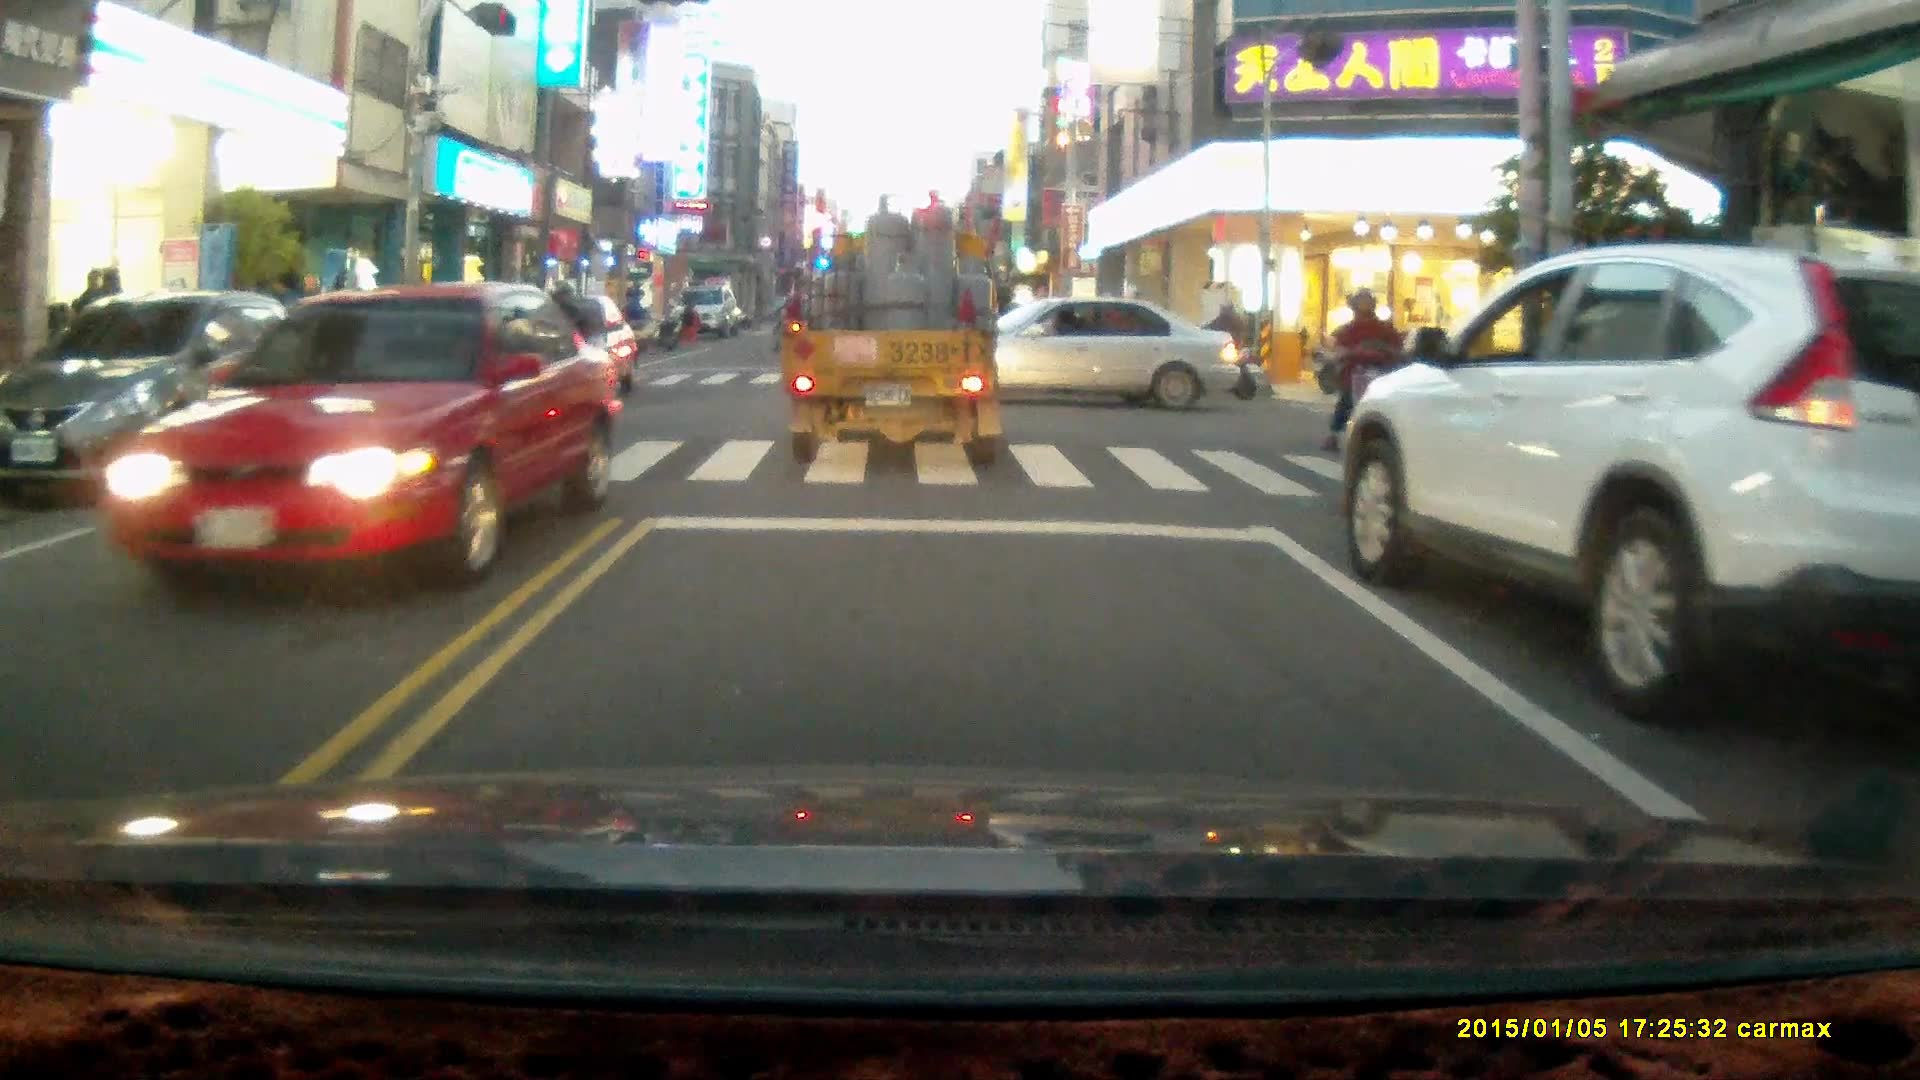rider: (1319, 280, 1415, 468), (1169, 294, 1262, 399)
vehicle: (1334, 239, 1920, 728), (95, 277, 627, 592), (783, 191, 1013, 465), (913, 295, 1242, 412), (671, 284, 739, 336)
